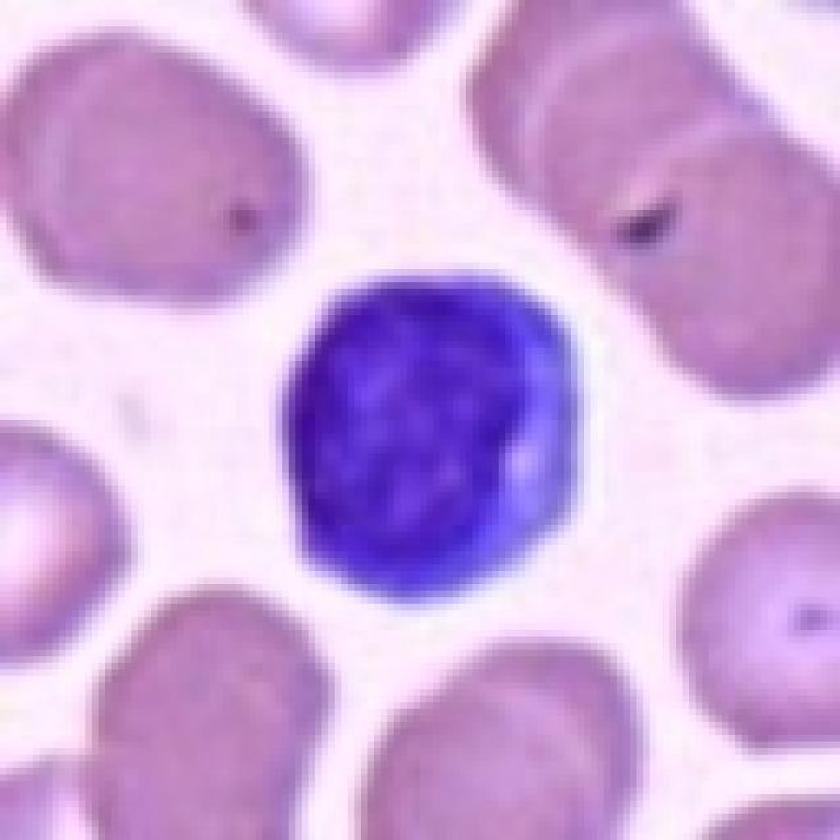lymphocyte: (273, 270, 597, 615)
